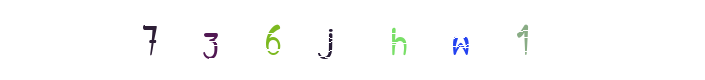1: (420, 0, 500, 80)
6: (312, 0, 392, 80)
7: (179, 0, 259, 80)
H: (335, 0, 415, 80)
J: (320, 0, 400, 80)
W: (376, 0, 456, 80)
Z: (233, 0, 313, 80)
